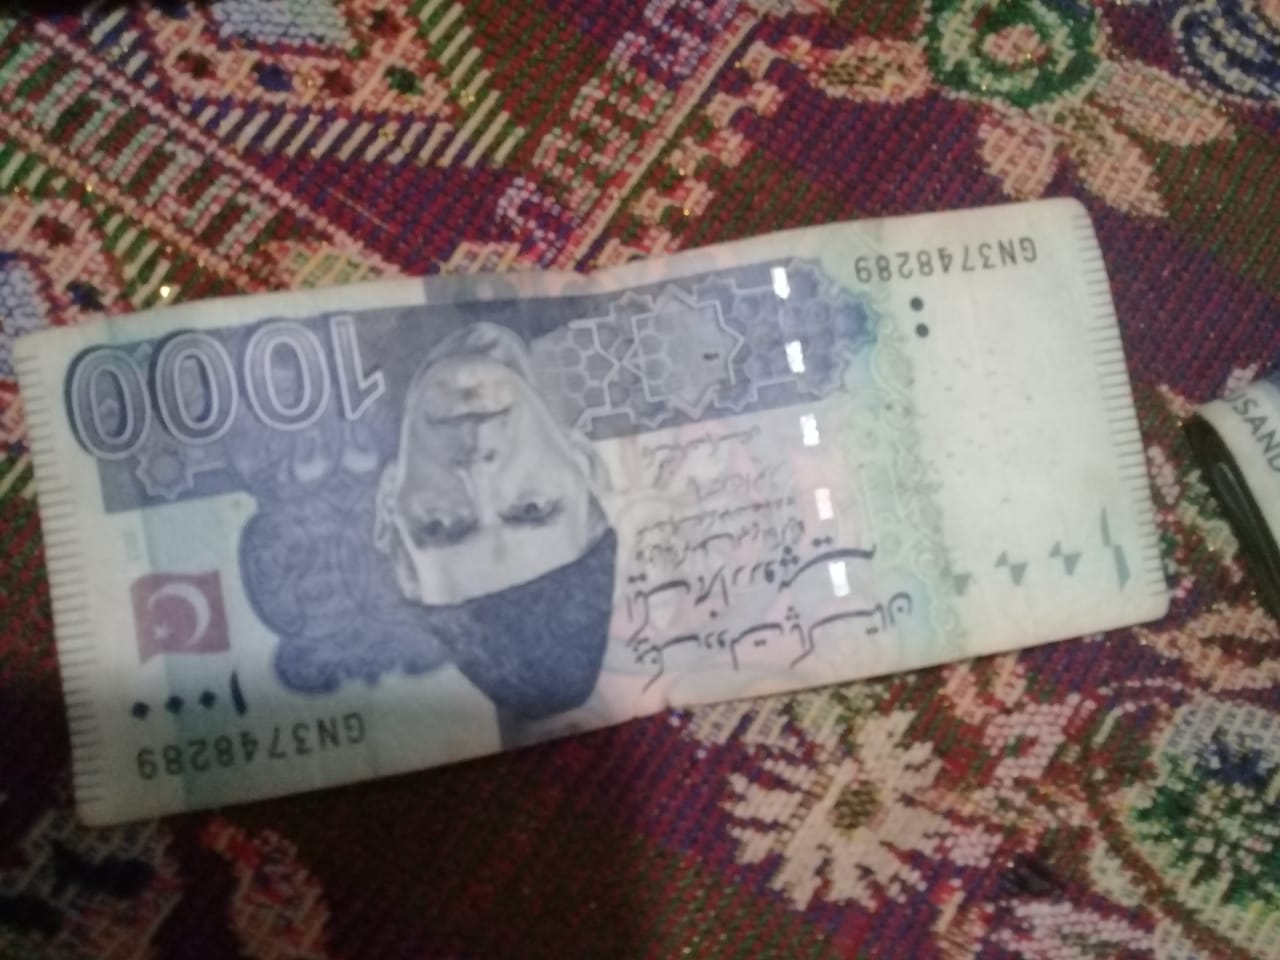1000 rupee: (23, 165, 1181, 852)
